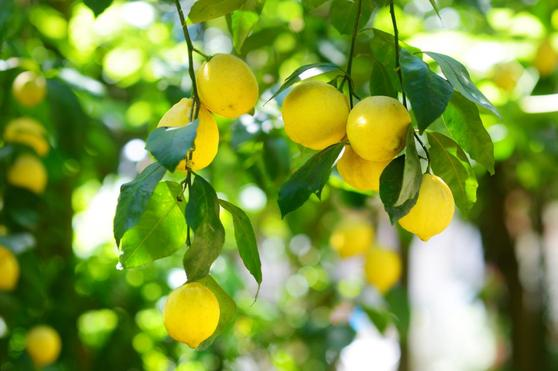lemon: (347, 93, 414, 161), (283, 81, 348, 151), (199, 46, 257, 121), (166, 282, 220, 345)
